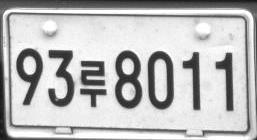0: (147, 50, 174, 110)
1: (213, 52, 242, 112), (179, 51, 208, 110)
3: (48, 49, 75, 107)
8: (114, 49, 143, 109)
9: (16, 47, 44, 106)
루: (79, 59, 107, 108)
